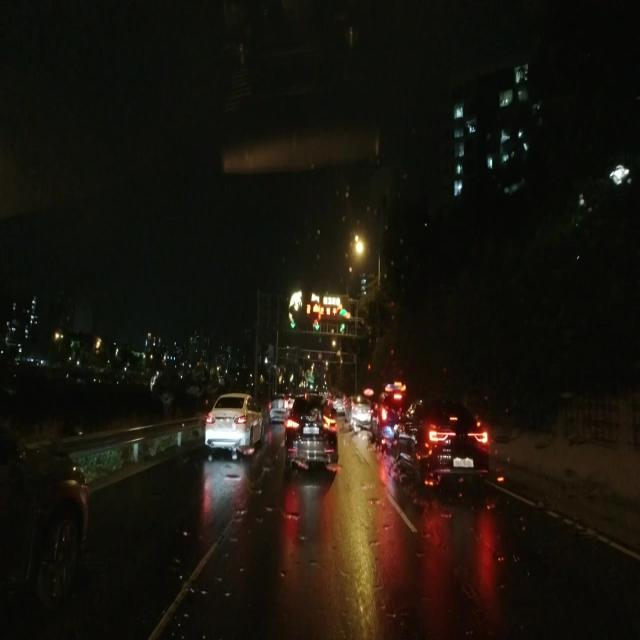Car: (2, 425, 91, 639), (391, 397, 488, 506), (283, 389, 340, 472), (204, 392, 265, 463), (370, 391, 399, 442)
